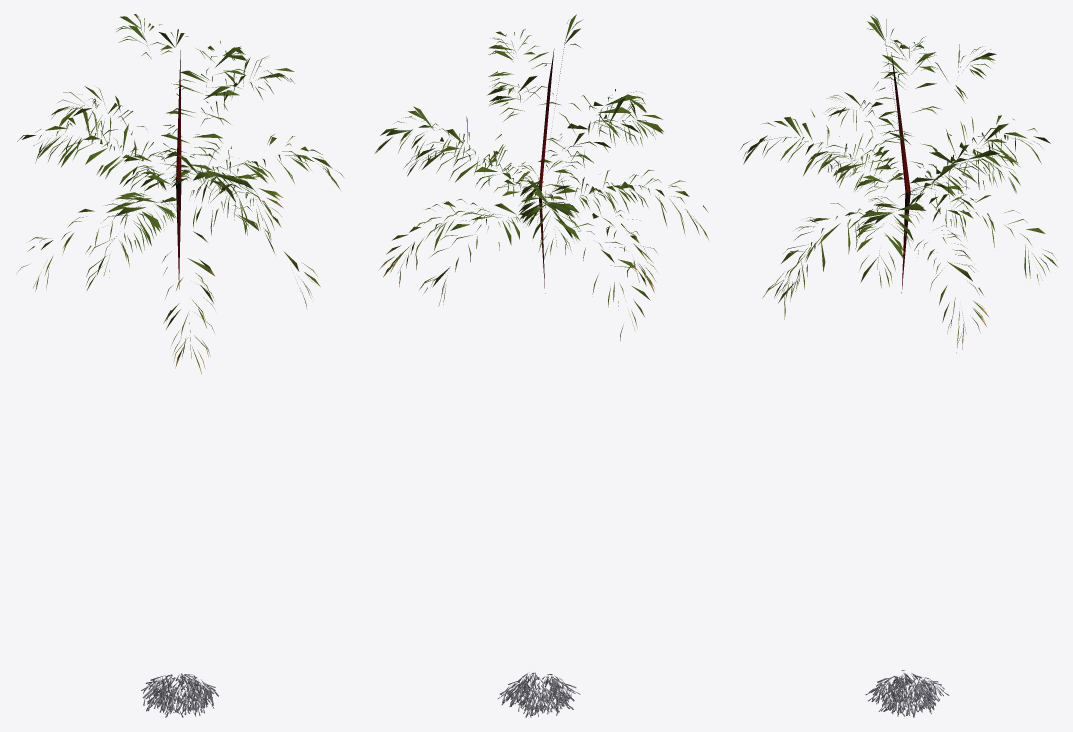
The model's file is palm_royal_lo.glb.
The picture shows the model from 3 angles, left to right: view 1: azimuth 30°, elevation 25°; view 2: azimuth 150°, elevation 25°; view 3: azimuth 270°, elevation 25°; orthographic projection. The views are drawn at different scales.
Visible parts, largest first — view 1: Roystonea_regia_HD; view 2: Roystonea_regia_HD; view 3: Roystonea_regia_HD.
Boxes of the visible parts, x1,y1,x2,y2 form: Roystonea_regia_HD: (17, 14, 343, 717); Roystonea_regia_HD: (374, 14, 709, 717); Roystonea_regia_HD: (740, 15, 1057, 717).
Bounding box in the file's own units: 7.33 × 17.09 × 7.25.
8 materials, 8 textured.
